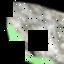Morning glory: (2, 11, 64, 64)
